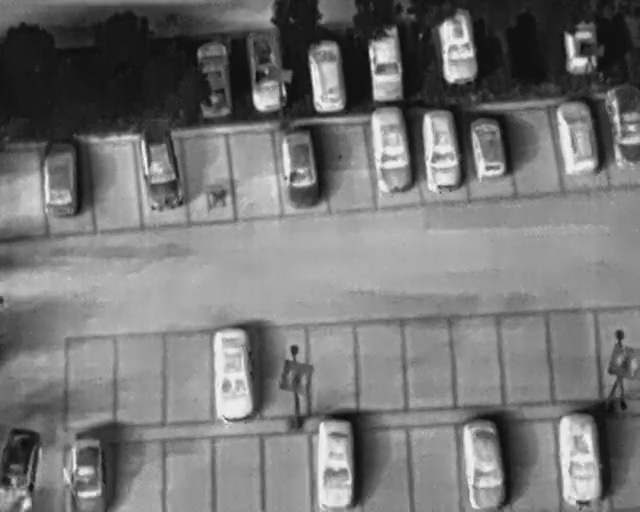Car: (366, 104, 418, 196), (135, 125, 186, 214), (212, 327, 256, 423), (551, 95, 603, 175), (243, 24, 289, 112), (462, 418, 505, 510), (558, 415, 601, 506), (418, 109, 463, 193), (193, 40, 236, 123), (306, 38, 351, 115), (0, 428, 41, 512), (281, 129, 323, 208), (317, 421, 353, 509), (68, 436, 109, 512), (42, 137, 80, 217), (435, 14, 478, 84), (605, 83, 639, 167), (368, 28, 403, 104), (468, 118, 509, 181), (563, 21, 603, 77)
